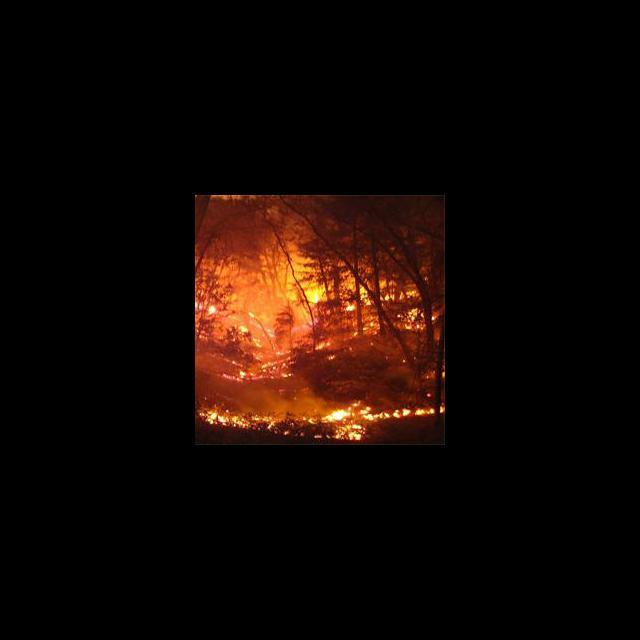Fire: (196, 236, 445, 441)
